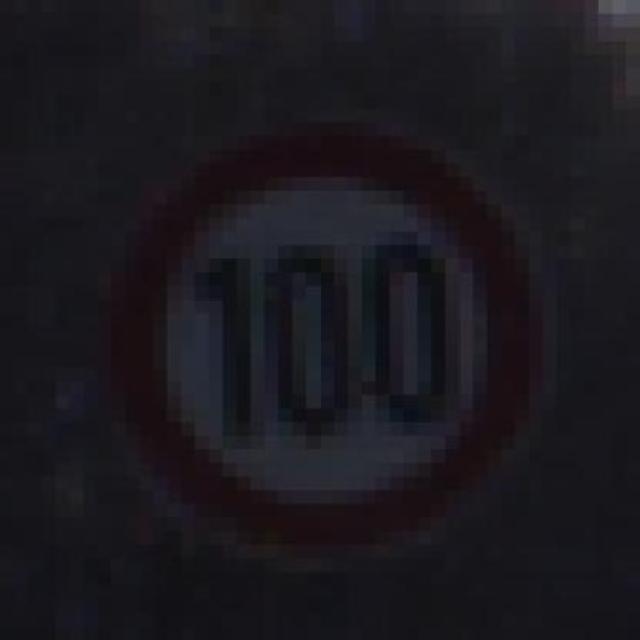forb_speed_over_100: (107, 130, 548, 556)
